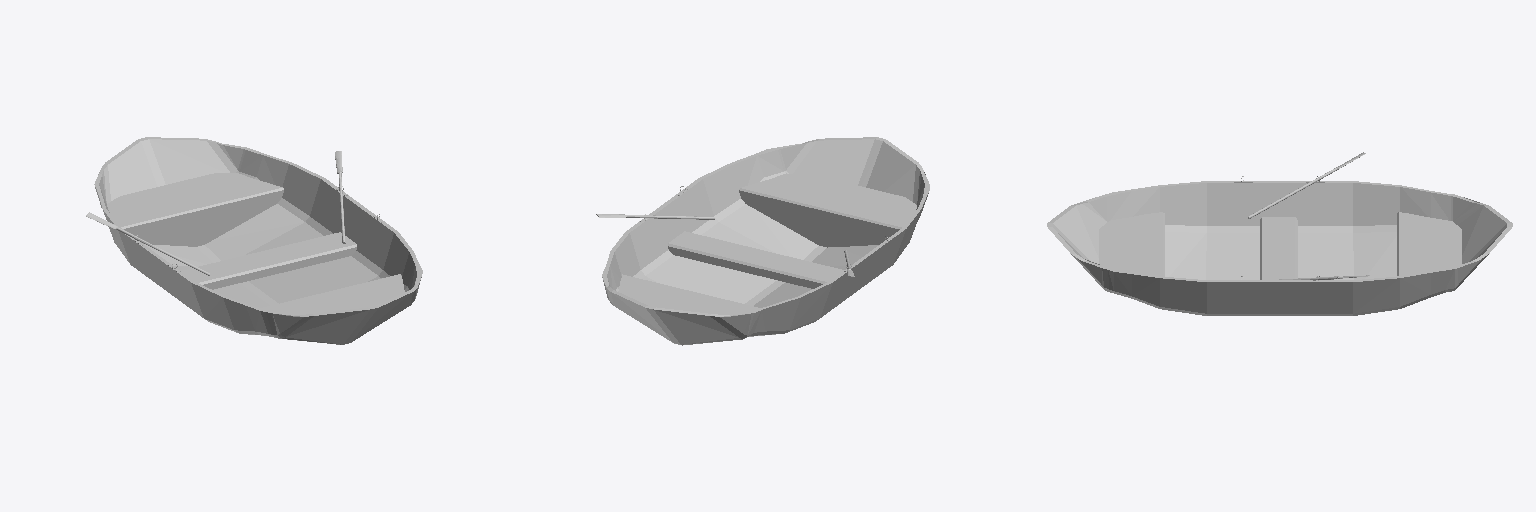
Rendered from boat.obj.
The picture shows the model from 3 angles: view 1: azimuth 30°, elevation 25°; view 2: azimuth 150°, elevation 25°; view 3: azimuth 270°, elevation 25°; orthographic projection.
Visible parts, largest first — view 1: Boat1_pCube345; view 2: Boat1_pCube345; view 3: Boat1_pCube345.
Part boxes in pixels (bbox=[...]): Boat1_pCube345: bbox=[86, 137, 422, 344]; Boat1_pCube345: bbox=[596, 137, 929, 345]; Boat1_pCube345: bbox=[1047, 152, 1512, 315].
Size of the model in its own units: 289 by 91 by 453.